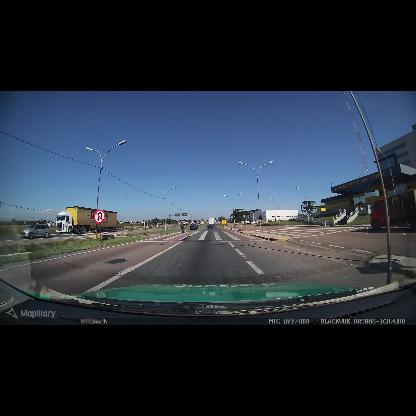R-5a: (94, 210, 106, 223)
